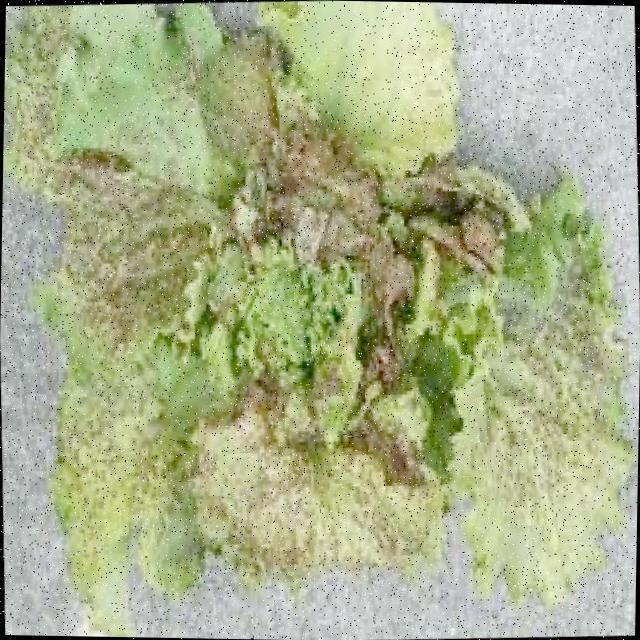Lettuce Mosaic Virus: (160, 106, 446, 527)
